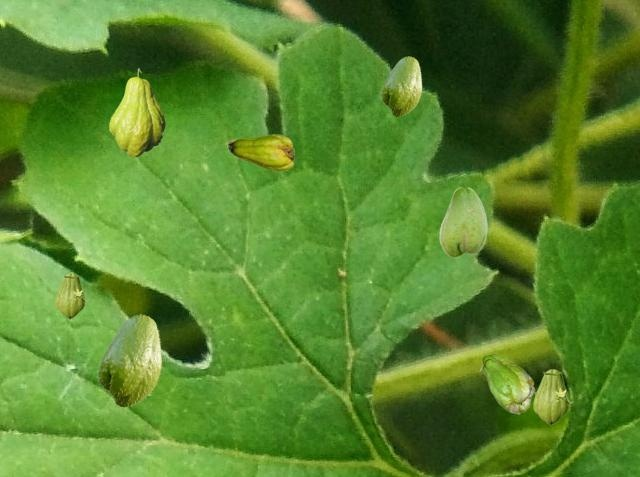sayote: (96, 314, 161, 407), (109, 68, 164, 156), (479, 353, 535, 413), (439, 187, 486, 256), (380, 56, 421, 116), (225, 134, 293, 170), (533, 369, 572, 424), (55, 273, 87, 318)
